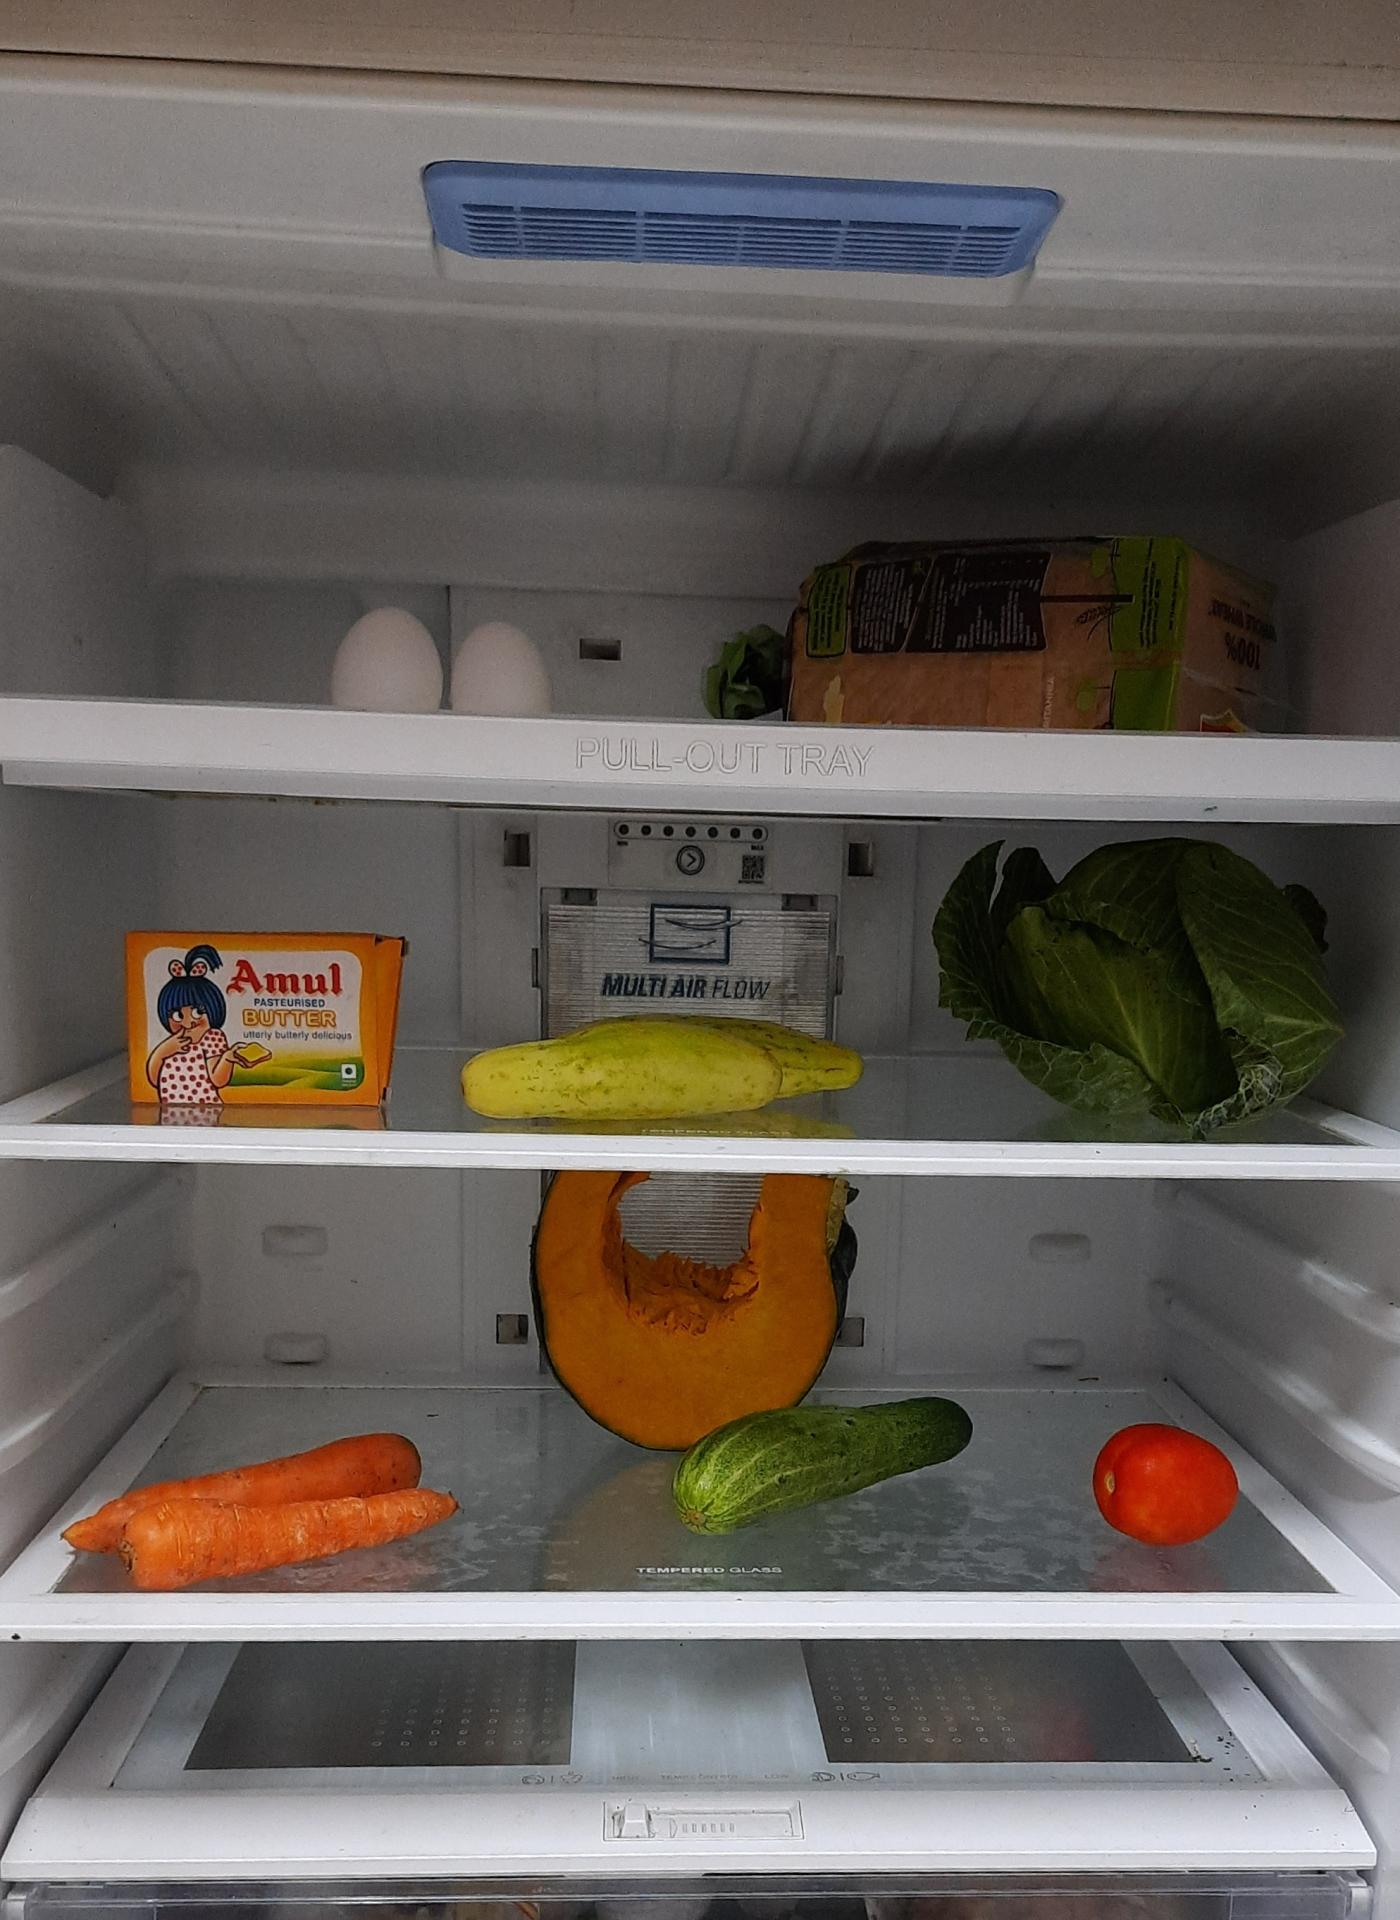bread: (711, 517, 1279, 717), (537, 1176, 863, 1452)
butter: (131, 936, 414, 1118)
cabbage: (935, 833, 1348, 1122)
carrots: (63, 1434, 452, 1583)
cucumber: (458, 1005, 877, 1124), (669, 1397, 978, 1534)
egg: (335, 605, 561, 716)
tomato: (1091, 1422, 1243, 1547)
